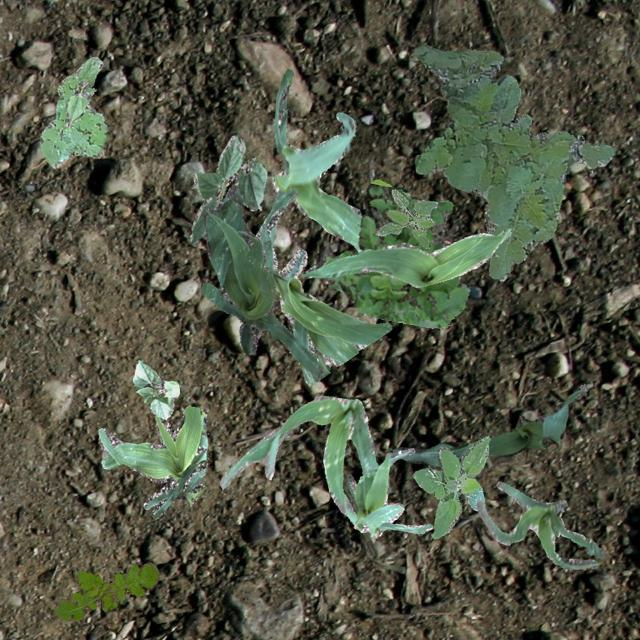crop: (254, 187, 390, 386), (200, 184, 322, 376), (218, 394, 376, 524), (268, 68, 362, 252), (392, 382, 588, 468), (96, 404, 208, 518), (300, 228, 510, 286), (476, 481, 604, 568), (188, 134, 266, 242), (346, 447, 432, 538), (132, 358, 178, 418), (65, 56, 102, 126)
weed: (414, 43, 614, 280), (320, 178, 468, 328), (412, 434, 488, 538), (38, 72, 108, 168), (54, 562, 158, 620), (374, 188, 436, 248)
